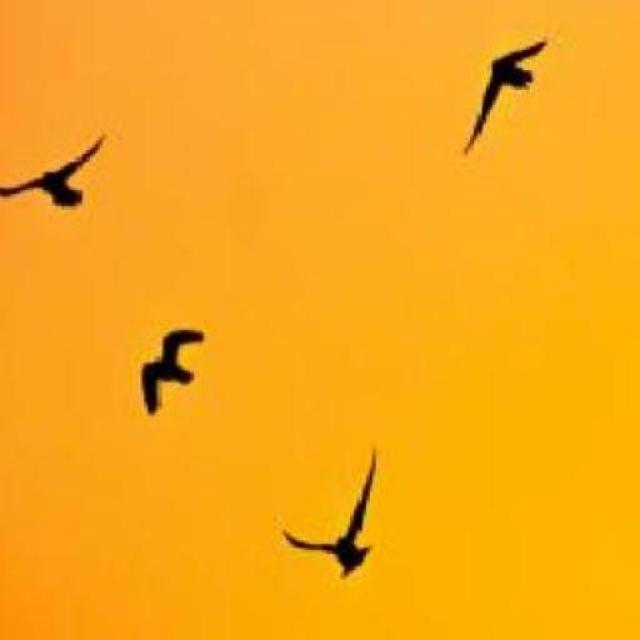airplane: (284, 444, 380, 580), (464, 38, 550, 158), (0, 135, 104, 209), (139, 329, 205, 415)
